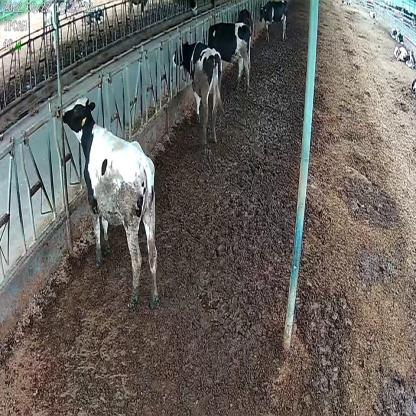cow: (60, 96, 161, 316), (172, 39, 224, 148), (201, 23, 253, 96), (259, 2, 288, 43)
